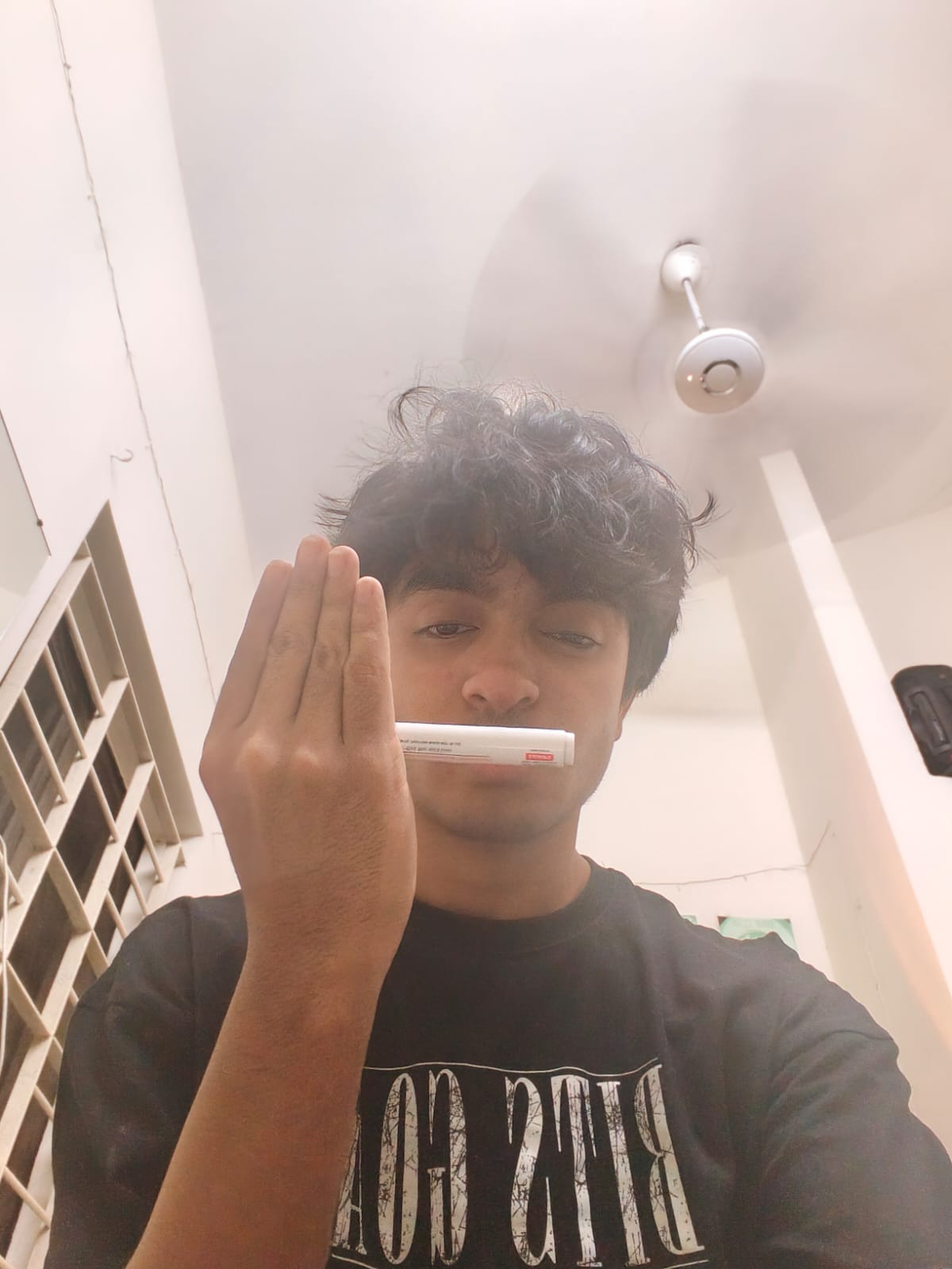case: (392, 713, 587, 790)
